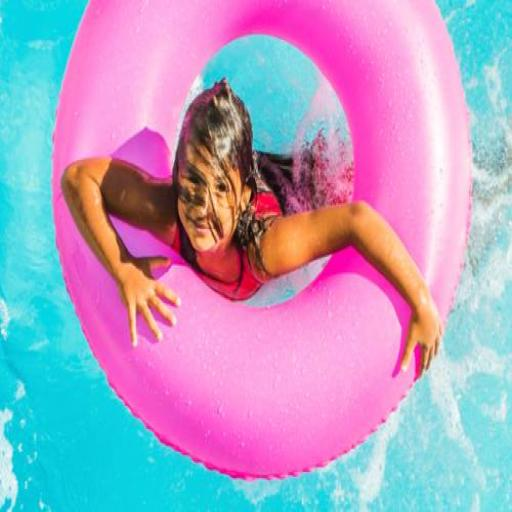swimming: (58, 76, 444, 382)
